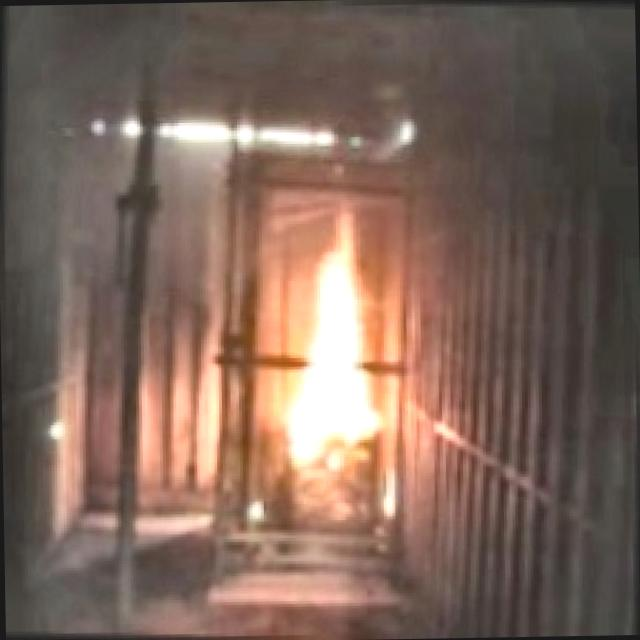fire: (266, 212, 414, 490)
